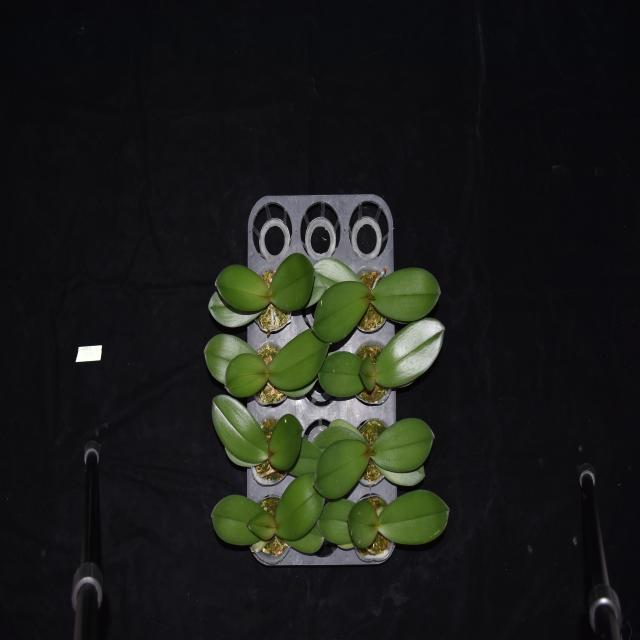leaf: (376, 315, 445, 389), (269, 324, 330, 401), (212, 394, 268, 468), (379, 487, 450, 545), (369, 268, 441, 324), (312, 280, 370, 344), (370, 416, 436, 472), (312, 437, 370, 499), (275, 470, 325, 539), (211, 492, 272, 546), (214, 260, 270, 314), (270, 250, 315, 312), (203, 334, 257, 382), (209, 289, 270, 331), (267, 412, 304, 471), (316, 352, 362, 399), (316, 499, 355, 552), (224, 351, 268, 397), (346, 496, 379, 550), (367, 460, 426, 487), (314, 418, 365, 449), (274, 523, 324, 554), (288, 435, 323, 478), (313, 258, 363, 288), (247, 510, 278, 540), (358, 353, 376, 392)
